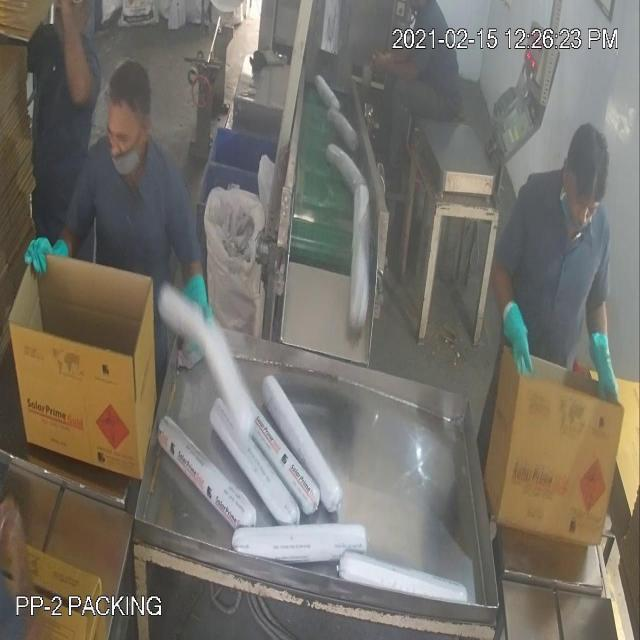Gloves: (23, 55, 605, 554)
